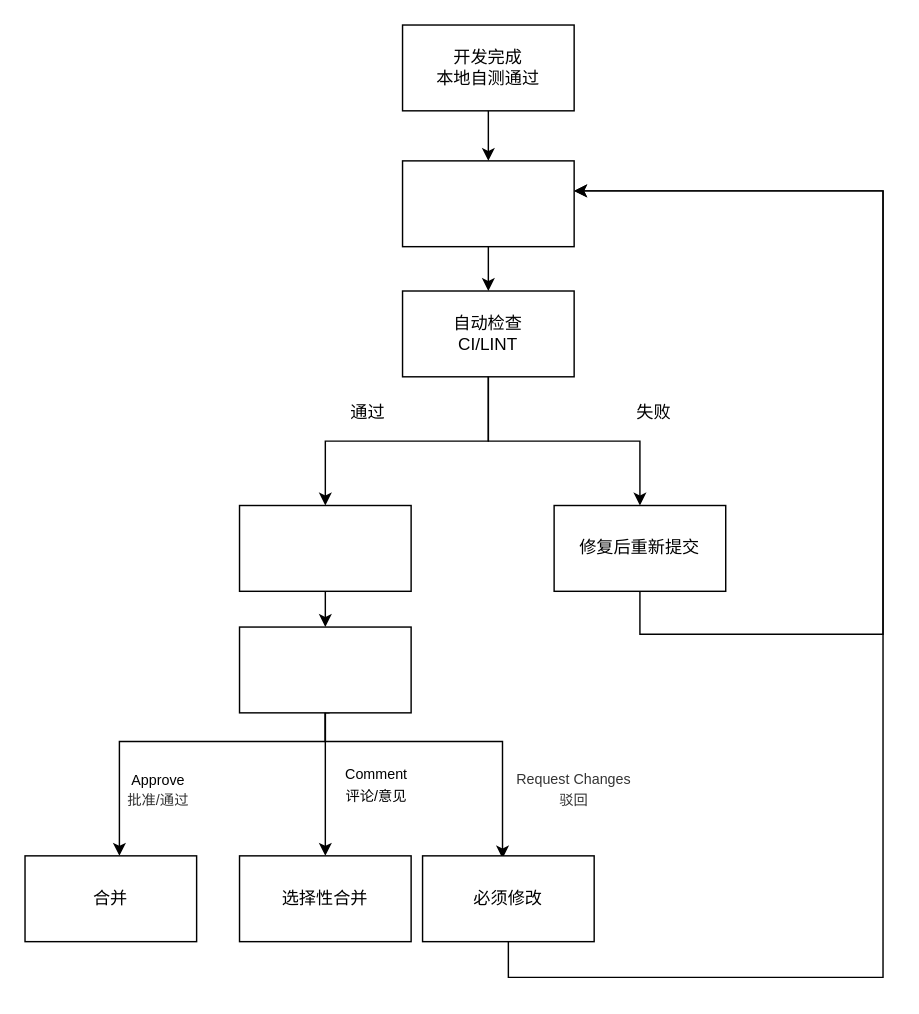
This 919x1014 diagram has some shape labels left out. The centre of each missing label's shape, as x and y in pixels:
Review结果: the point at 324,669
人工 Review: the point at 324,547
创建PR 填写描述模板: the point at 487,203
